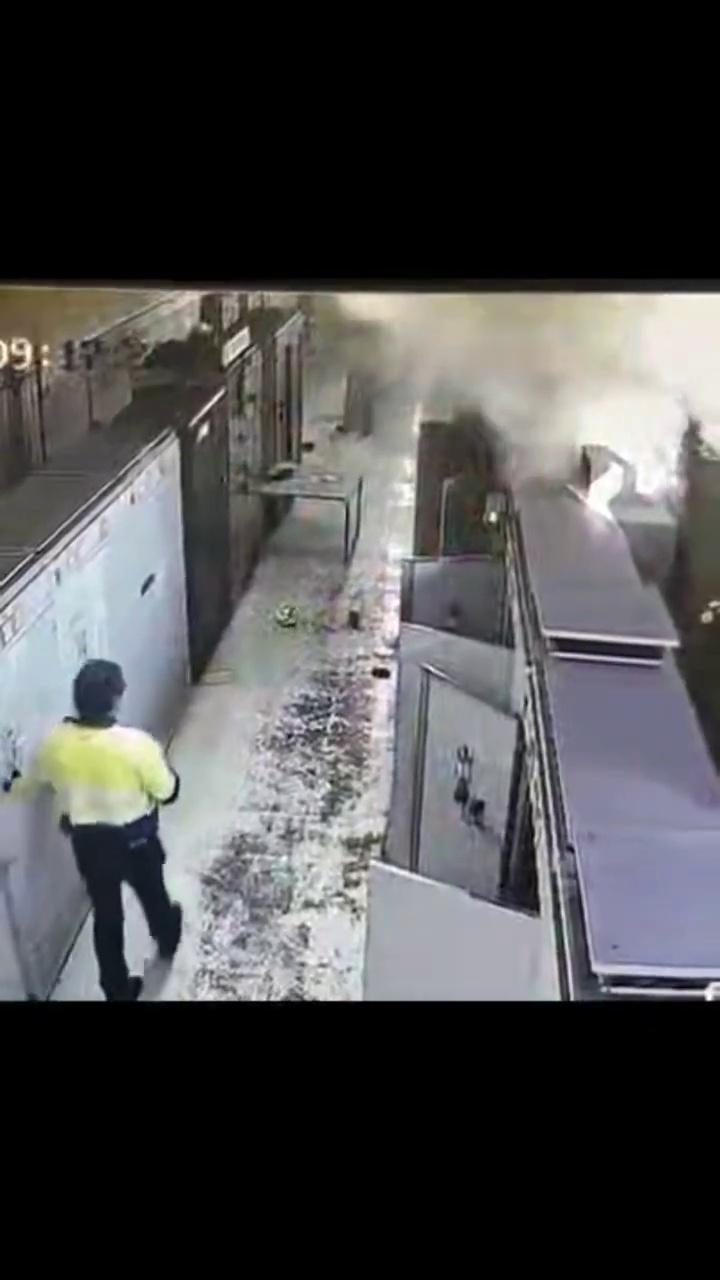smoke: (122, 289, 720, 535)
